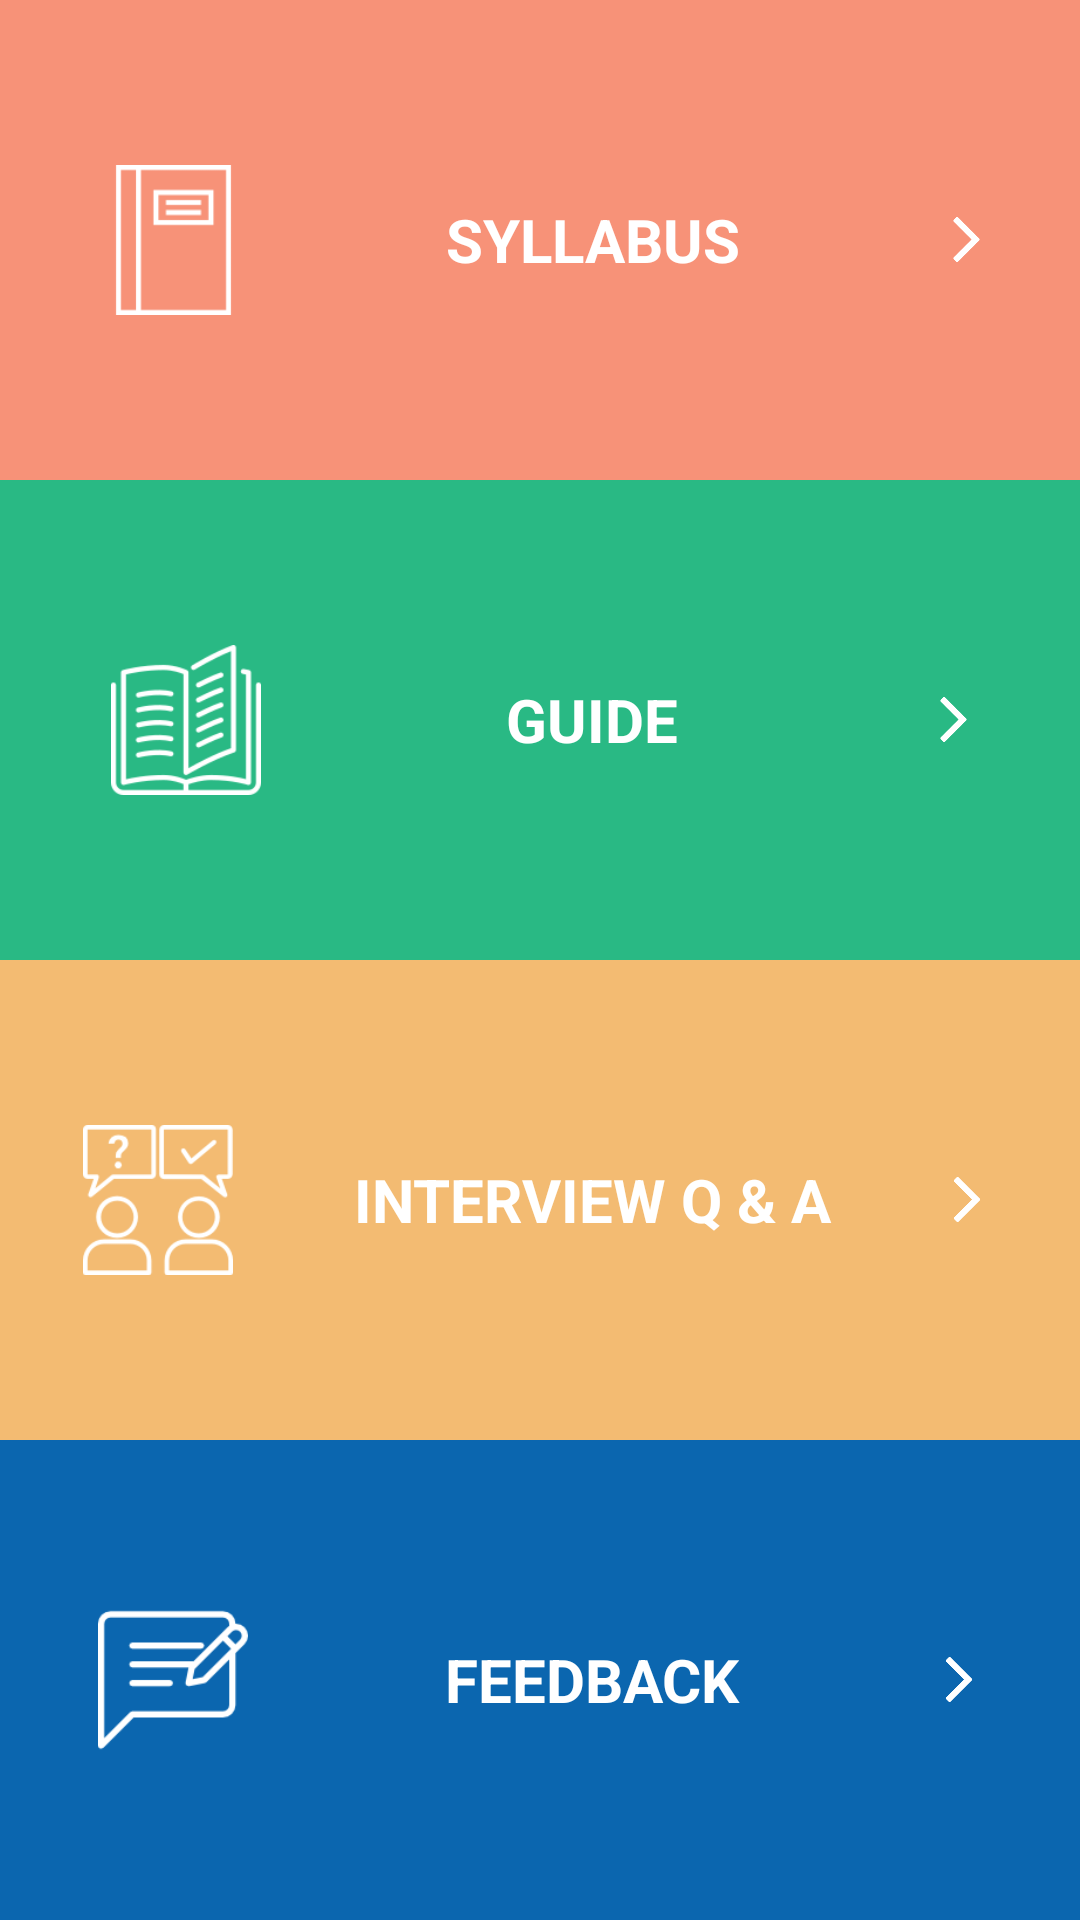

Point at icon controls on the screen. Image size 1080*1920, points as [x,y].
arrow right: [966,239], [953,719], [967,1199], [959,1679]
home interview: [158,1200]
